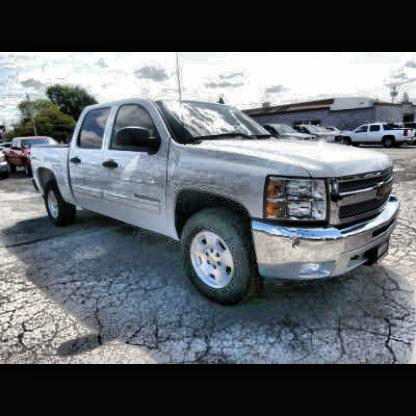Chevrolet Silverado 1500 Hybrid Crew Cab 2012: (32, 99, 400, 305)
